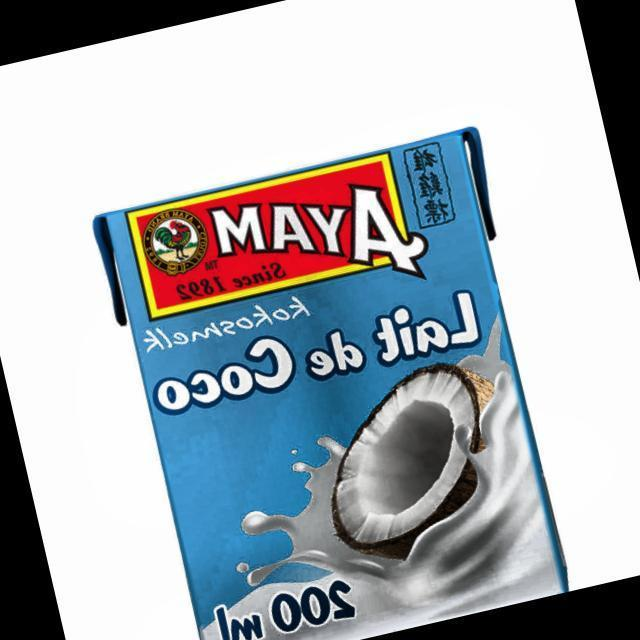cardboard: (90, 124, 583, 640)
